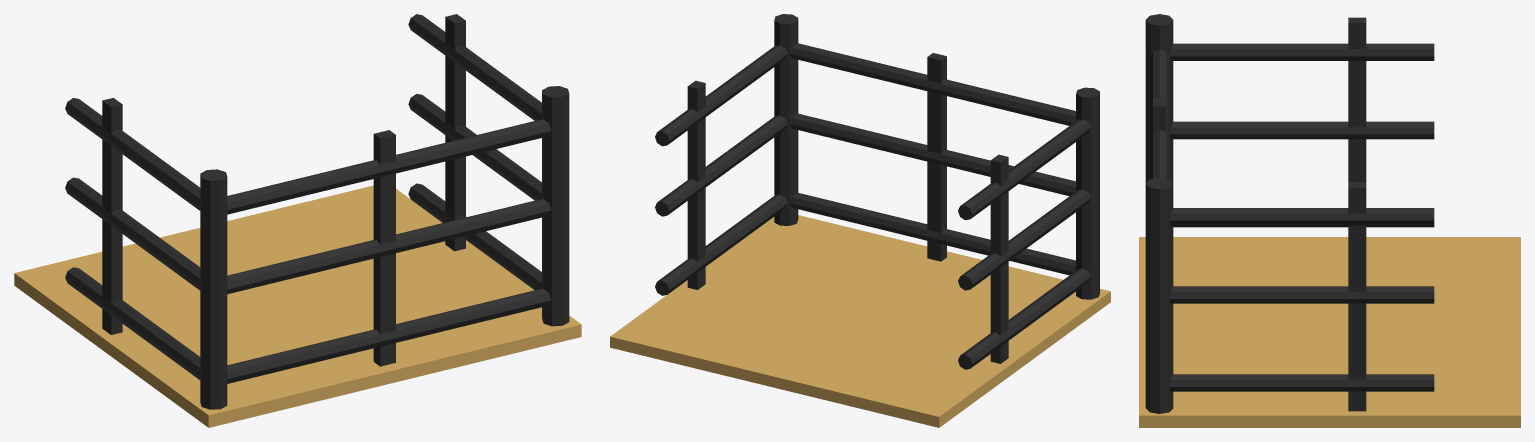
Rendered from Balcony01_house5.fbx.
The picture shows the model from 3 angles, left to right: view 1: azimuth 30°, elevation 25°; view 2: azimuth 150°, elevation 25°; view 3: azimuth 270°, elevation 25°; orthographic projection. The views are drawn at different scales.
Visible parts, largest first — view 1: Balcony01_House05; view 2: Balcony01_House05; view 3: Balcony01_House05.
Boxes of the visible parts, box(x1,y1,x2,y2) form: Balcony01_House05: box(14, 14, 581, 427); Balcony01_House05: box(610, 14, 1110, 427); Balcony01_House05: box(1139, 14, 1520, 427).
Size of the model in its own units: 461 by 285 by 416.
